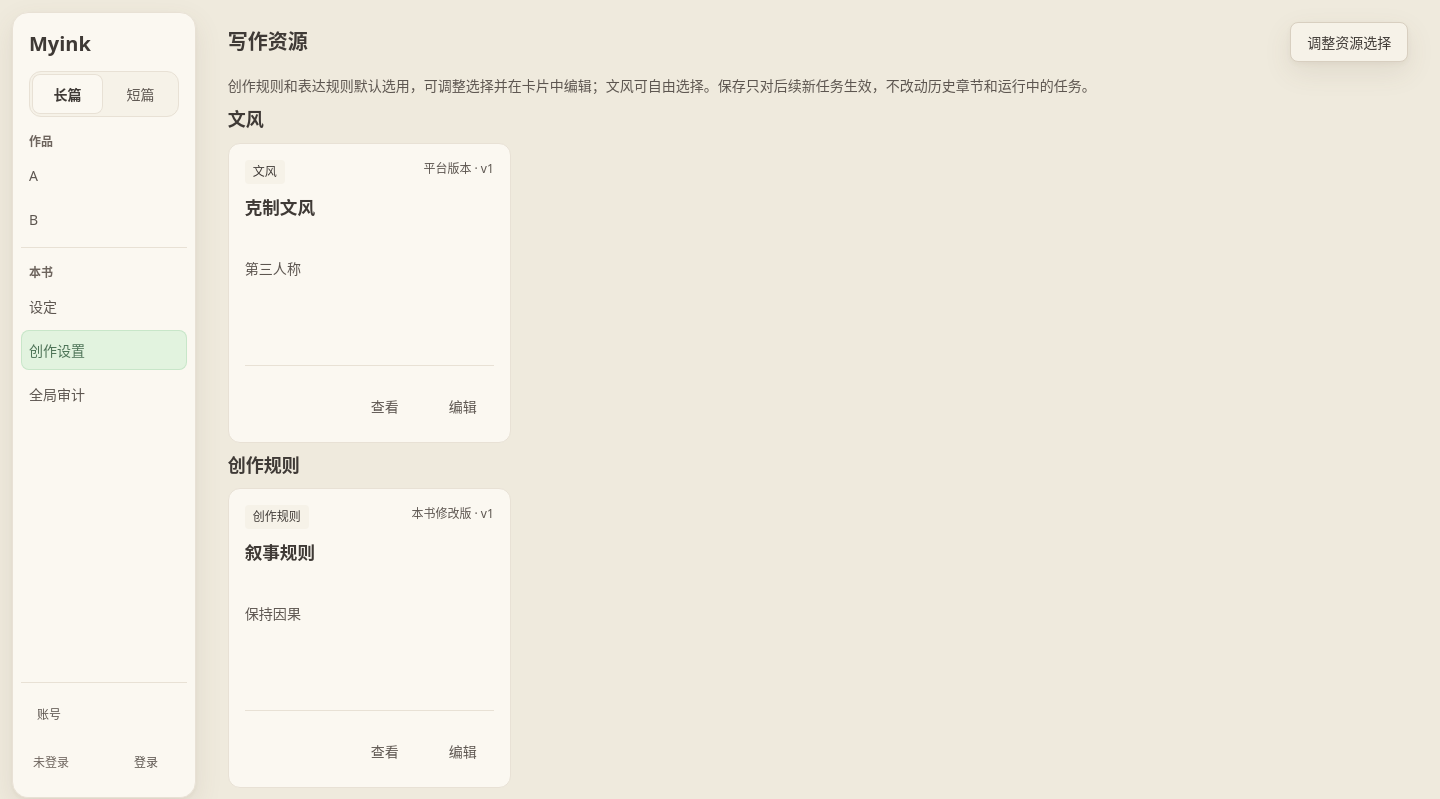
retains edited content on revision conflict and keeps the dialog open
The width and height of the screenshot is (1440, 799).
(page scrolled)
Click the button with aria-label "编辑 克制文风": (463, 406) top-left (432, 386), bottom-right (494, 426)
(page scrolled)
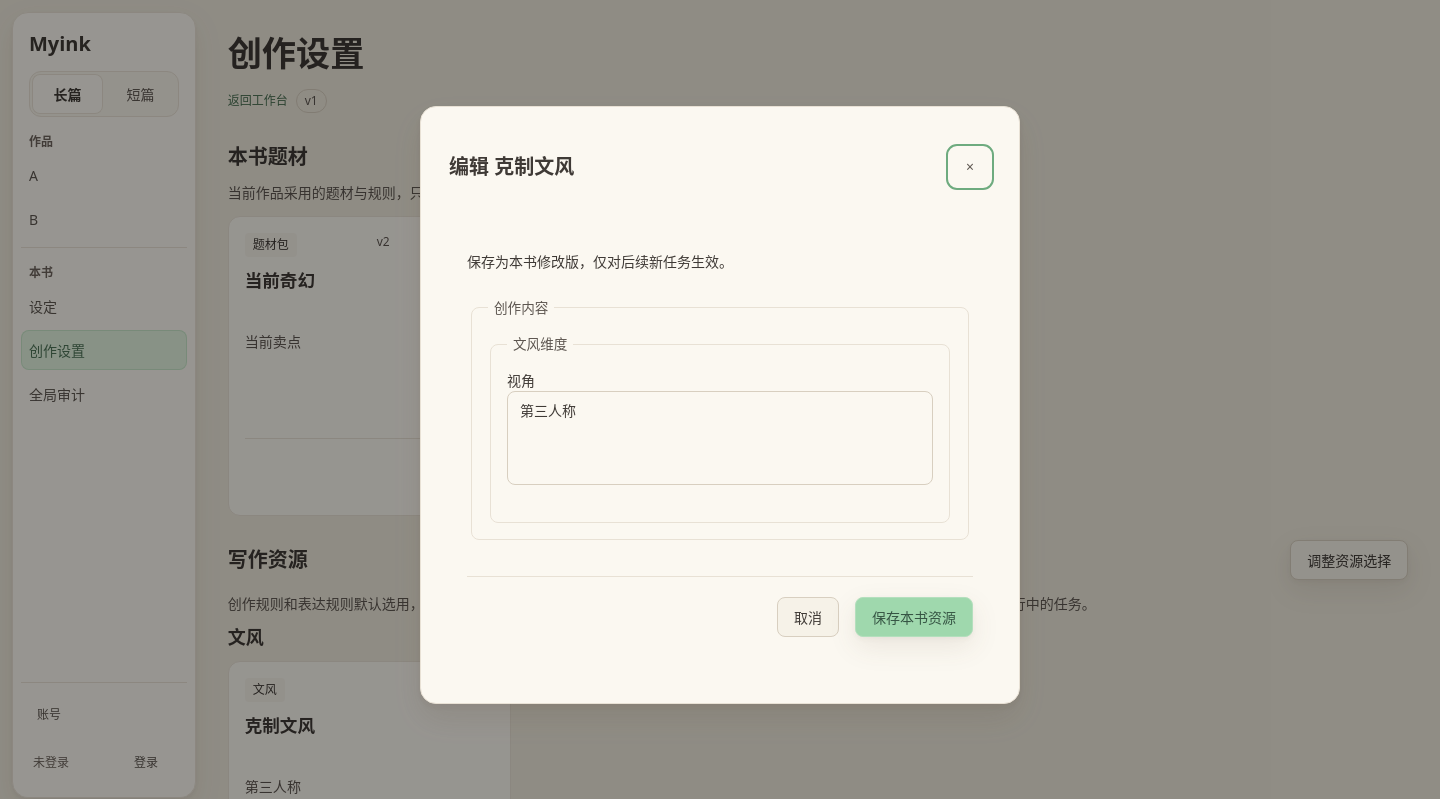
Replace the text in the text box labelled "视角" with "我的未保存修改": (720, 438) top-left (507, 391), bottom-right (933, 485)
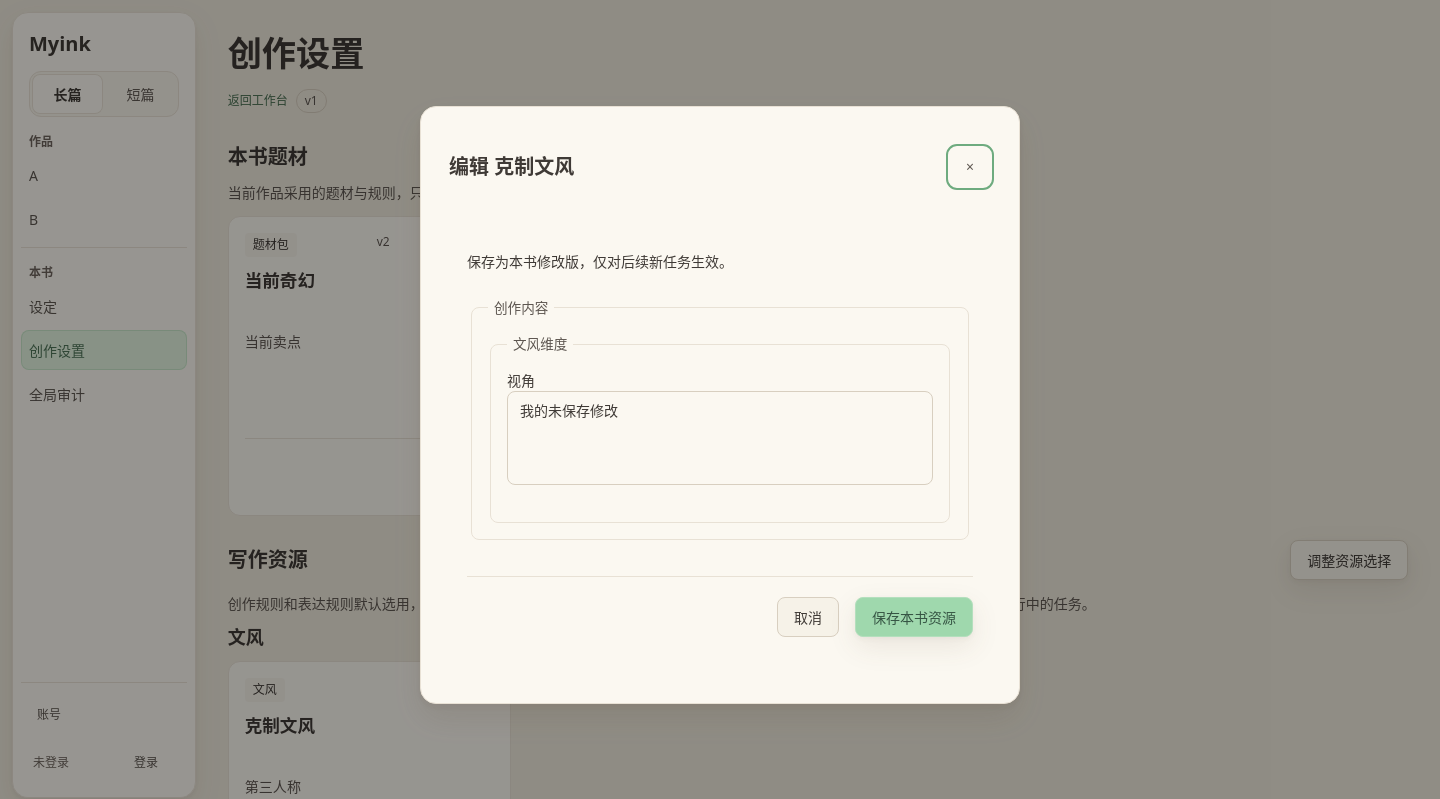
Click the button "保存本书资源": (914, 617) top-left (855, 597), bottom-right (973, 637)
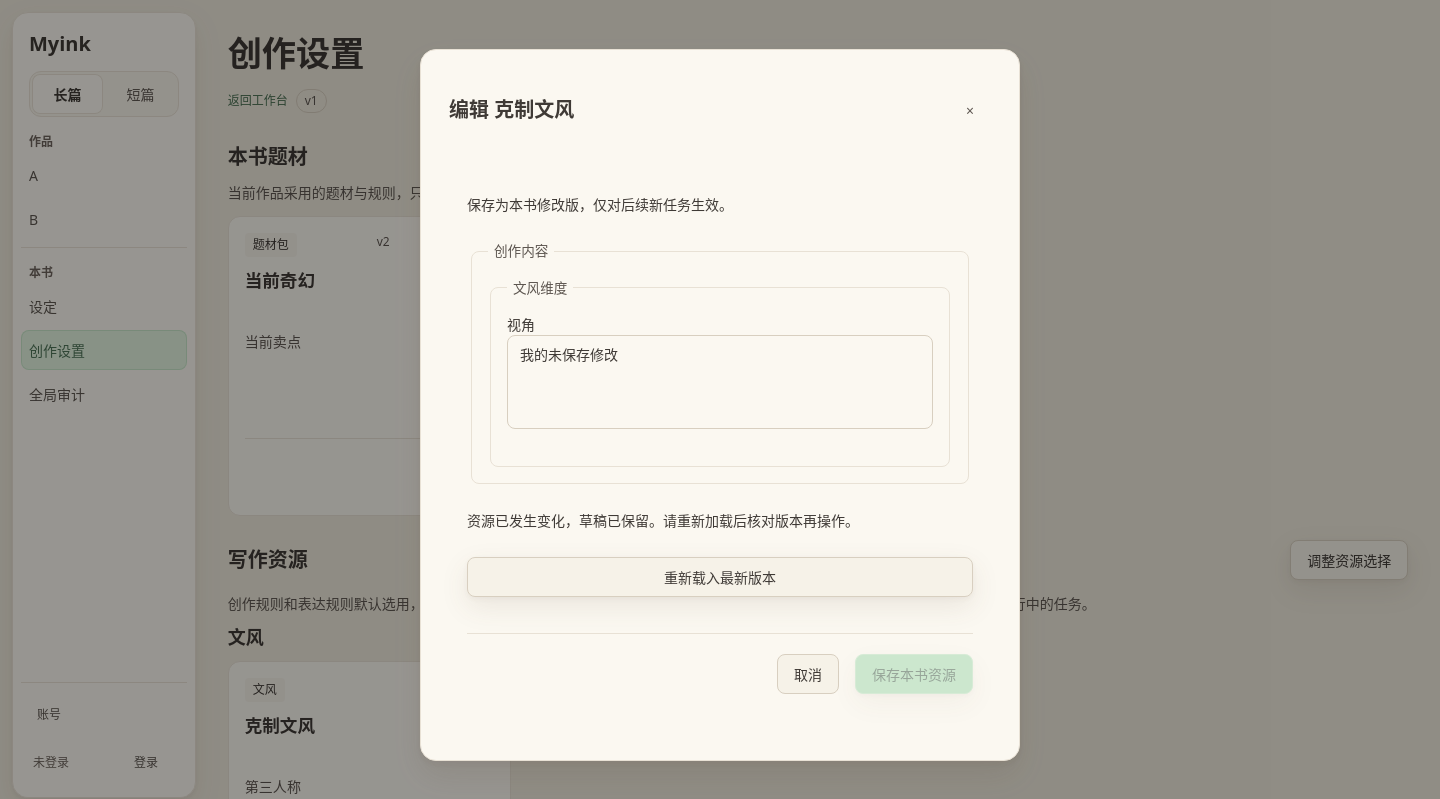
Check: the message "资源已发生变化，草稿已保留。请重新加载后核对版本再操作。" is shown, box top-left (467, 511), bottom-right (859, 530)
